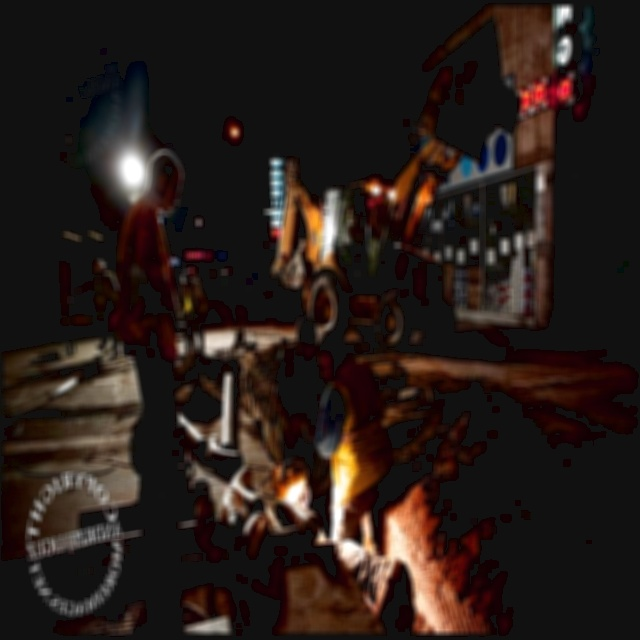Con_Chaleco: (112, 207, 176, 349), (326, 373, 389, 500)
